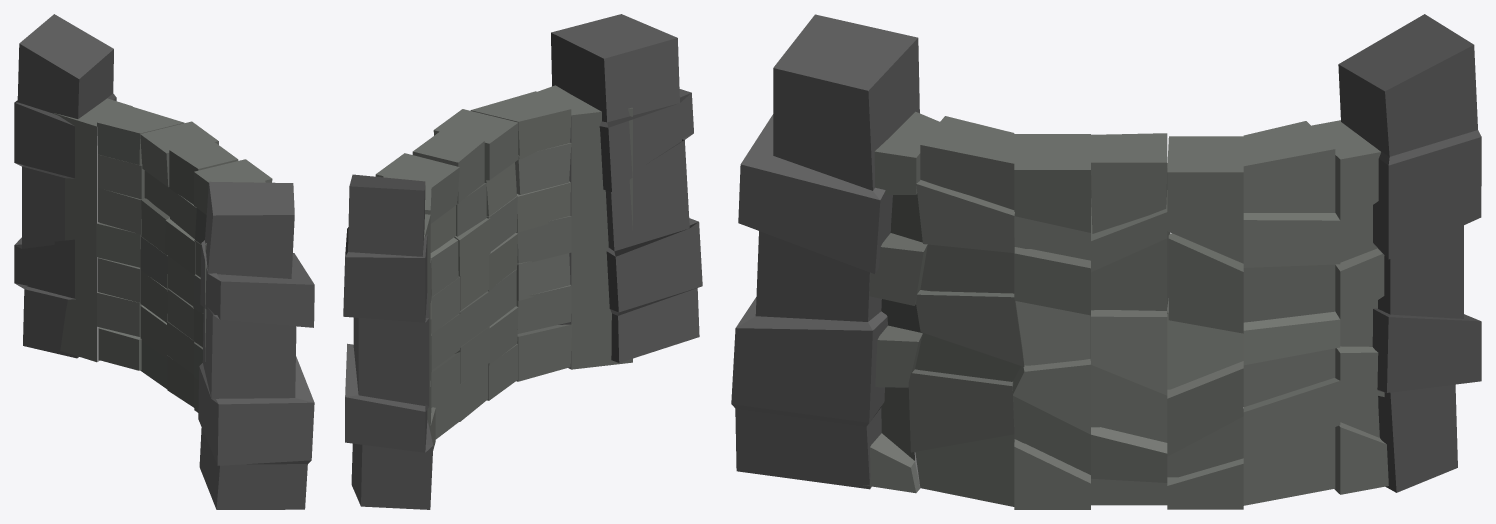
The model's file is Wall Broken.fbx.
3 renders of one model, left to right at view 1: azimuth 30°, elevation 25°; view 2: azimuth 150°, elevation 25°; view 3: azimuth 270°, elevation 25°, orthographic. The views are drawn at different scales.
Parts seen in each view (by area): view 1: polySurface95, polySurface9, polySurface7, polySurface5, polySurface3, polySurface24, polySurface54, polySurface57, polySurface27, polySurface84, polySurface86, polySurface33 (+11 smaller); view 2: polySurface95, polySurface1, polySurface3, polySurface5, polySurface7, polySurface94, polySurface12, polySurface72, polySurface38, polySurface41, polySurface69, polySurface33 (+17 smaller); view 3: polySurface95, polySurface9, polySurface72, polySurface3, polySurface5, polySurface1, polySurface7, polySurface29, polySurface41, polySurface48, polySurface94, polySurface84 (+24 smaller).
Boxes of the visible parts, x1,y1,x2,y2 form: polySurface95: (14,14,314,509); polySurface9: (97,105,184,164); polySurface7: (140,121,218,187); polySurface5: (169,139,238,204); polySurface3: (194,159,272,214); polySurface24: (98,154,145,199); polySurface54: (96,223,141,267); polySurface57: (97,257,140,302); polySurface27: (98,188,141,234); polySurface84: (97,292,141,336); polySurface86: (98,327,141,370); polySurface33: (165,217,195,274); polySurface95: (343,14,702,509); polySurface1: (470,91,571,159); polySurface3: (433,109,518,180); polySurface5: (412,130,484,203); polySurface7: (375,153,459,223); polySurface94: (516,324,572,381); polySurface12: (515,143,571,194); polySurface72: (516,285,571,333); polySurface38: (517,181,570,232); polySurface41: (516,216,571,263); polySurface69: (516,253,570,300); polySurface33: (454,218,490,276); polySurface95: (731,14,1481,494); polySurface9: (1243,121,1335,212); polySurface72: (908,369,1014,452); polySurface3: (1014,134,1090,232); polySurface5: (1091,133,1167,233); polySurface1: (920,116,1014,209); polySurface7: (1167,136,1243,222); polySurface29: (1168,233,1243,333); polySurface41: (916,290,1024,366); polySurface48: (1090,310,1167,395); polySurface94: (915,434,1014,506); polySurface84: (1243,378,1340,463).
Bounding box in the file's own units: 6.16 × 12.35 × 19.3.
